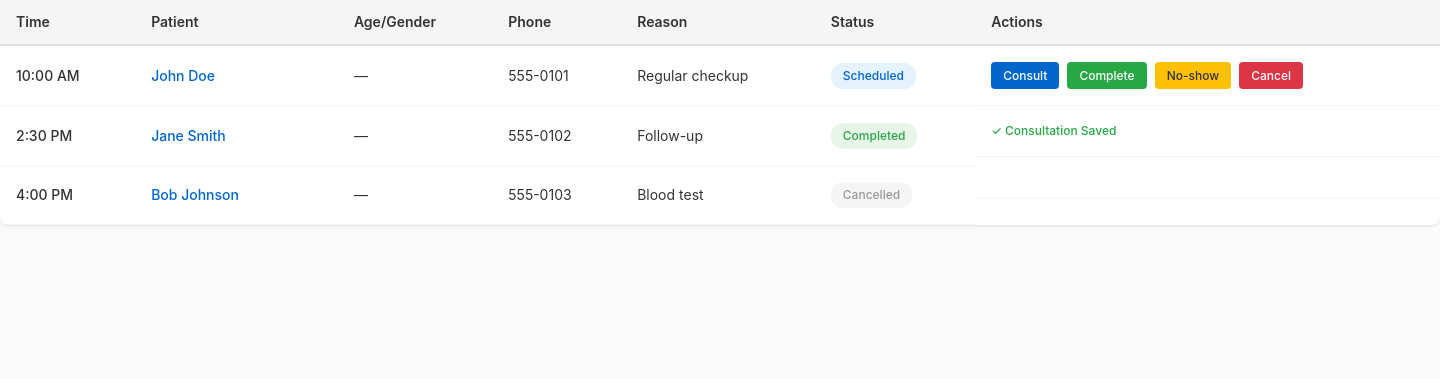
it: AppointmentList Component › Cancel Appointment › should close confirmation dialog when No, Keep It clicked
This screenshot has width=1440, height=379.
Click the button titled "Cancel Appointment" at (1271, 76), box left=1239, top=62, right=1303, bottom=89
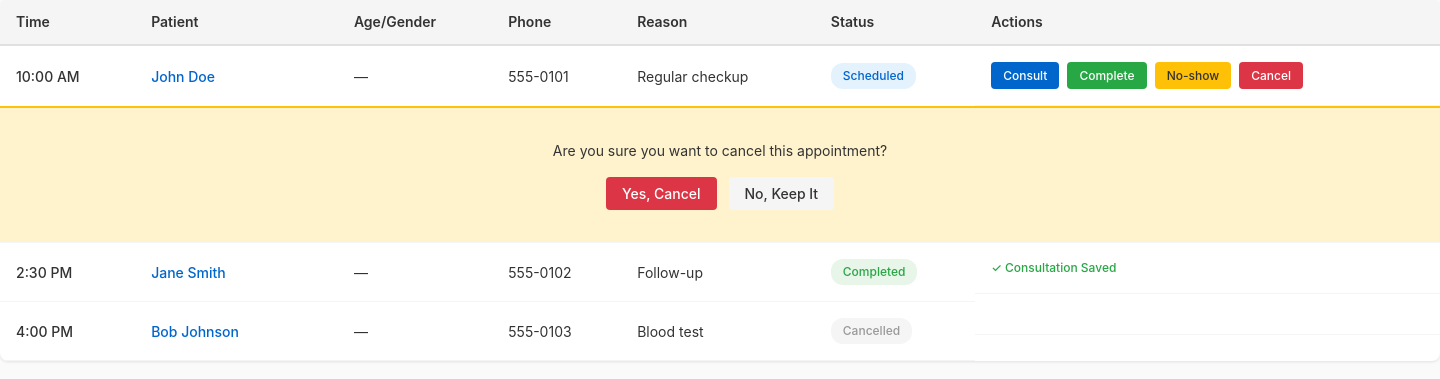
Now the text "Are you sure you want to cancel this appointment?" is shown, box left=553, top=142, right=887, bottom=159
Click the button "No, Keep It" at (781, 194), box left=728, top=177, right=834, bottom=210
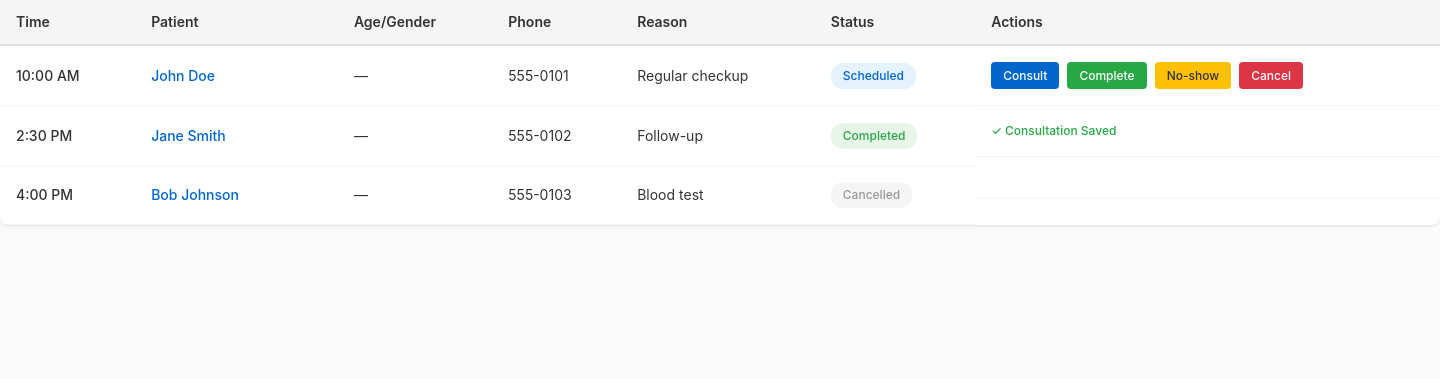
Now the text "Are you sure you want to cancel this appointment?" is gone
